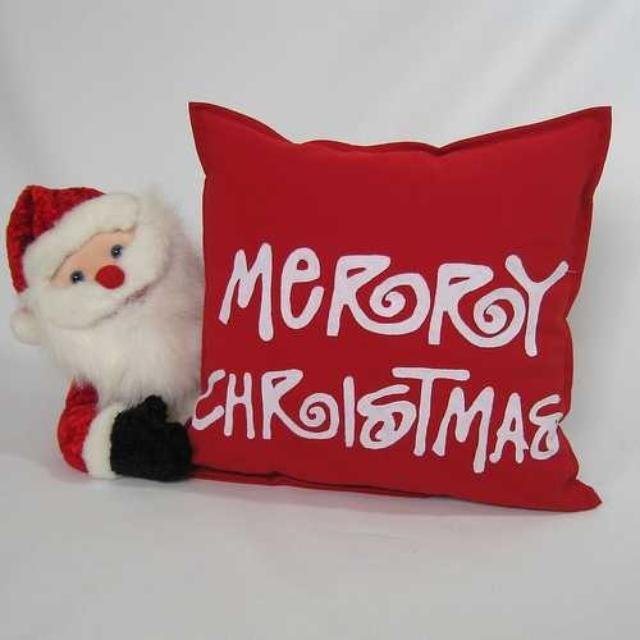pillow: (183, 99, 613, 512)
